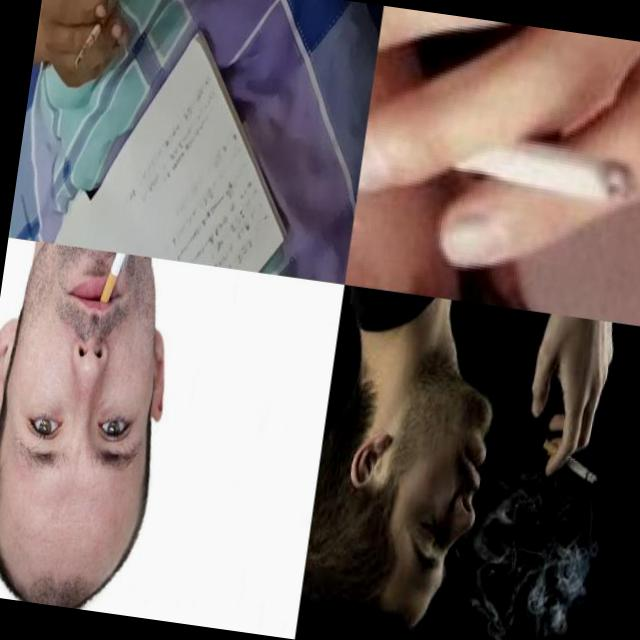smoke: (506, 308, 619, 484), (417, 121, 640, 206), (73, 0, 117, 75), (98, 252, 137, 309)
